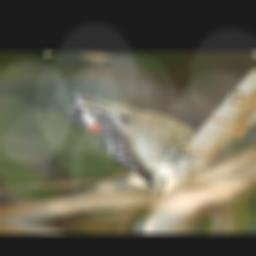Woodpecker: (34, 87, 217, 211)
